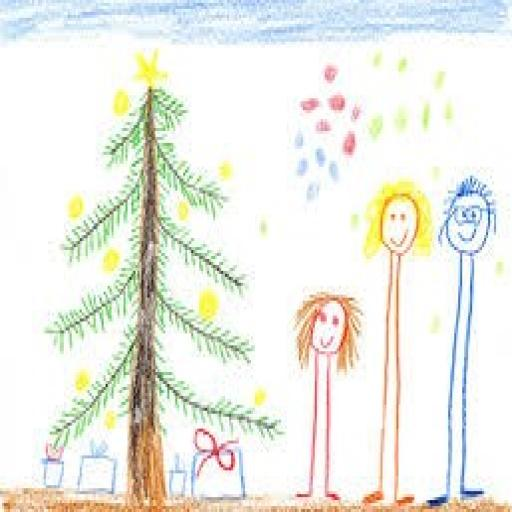person: (418, 167, 506, 506), (360, 176, 438, 508), (286, 271, 363, 507)
